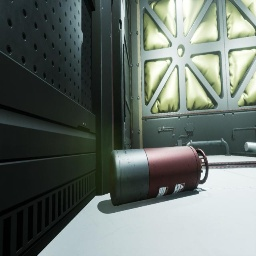0: (244, 142, 256, 152)
NitrogenTank ,: (109, 146, 209, 206)
